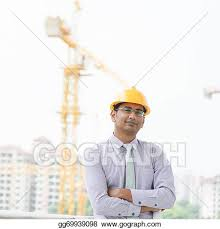Indian_Male: (113, 97, 147, 134)
